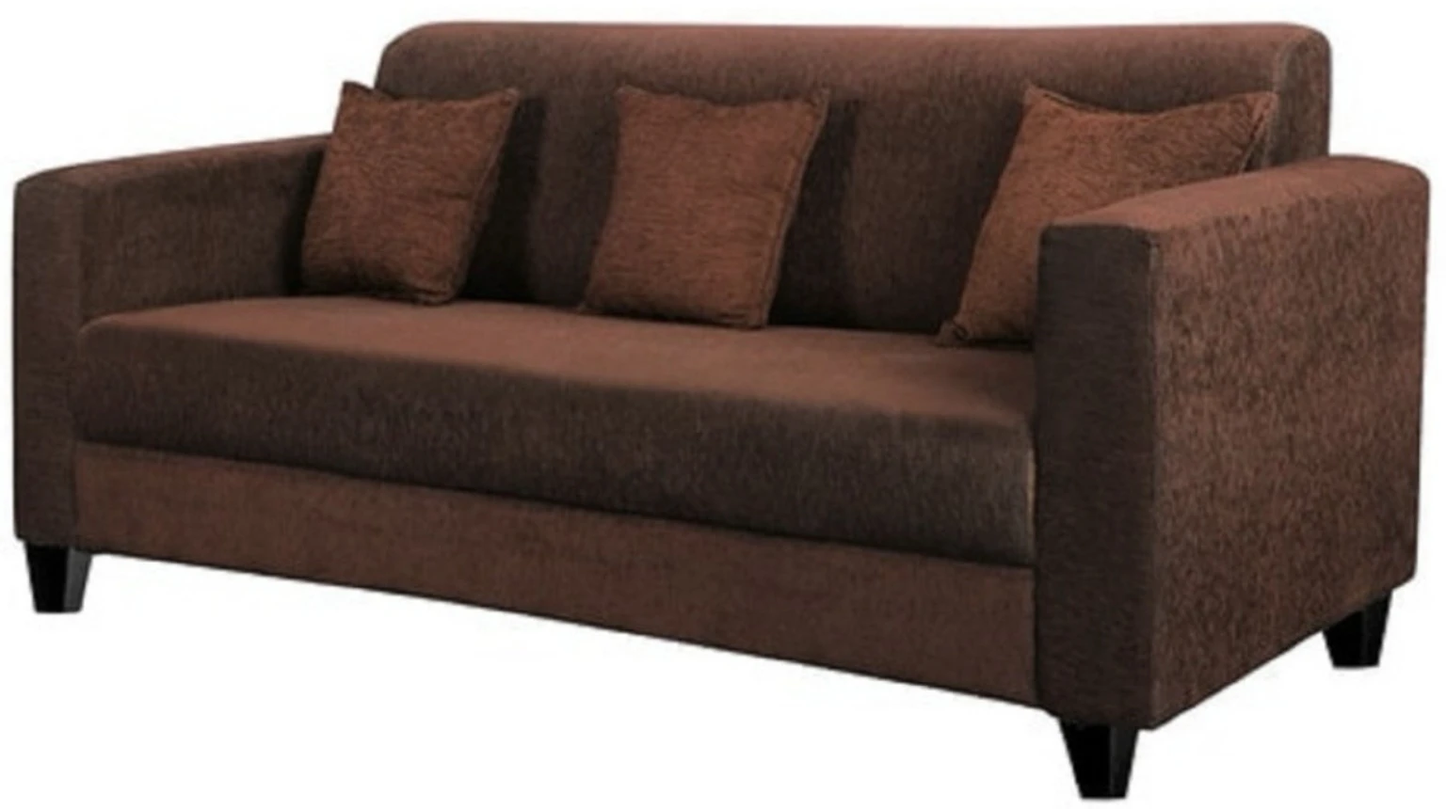3seatersofa: (11, 22, 1429, 799)
backrest: (375, 23, 1329, 333)
base: (73, 444, 1036, 704)
leftarmrest: (1036, 157, 1427, 726)
leg: (1061, 721, 1136, 798), (1325, 596, 1389, 668), (26, 544, 90, 613)
pillow: (954, 88, 1273, 338), (585, 87, 825, 326), (303, 84, 517, 302)
rightarmrest: (12, 136, 325, 544)
seat: (70, 297, 1035, 563)
